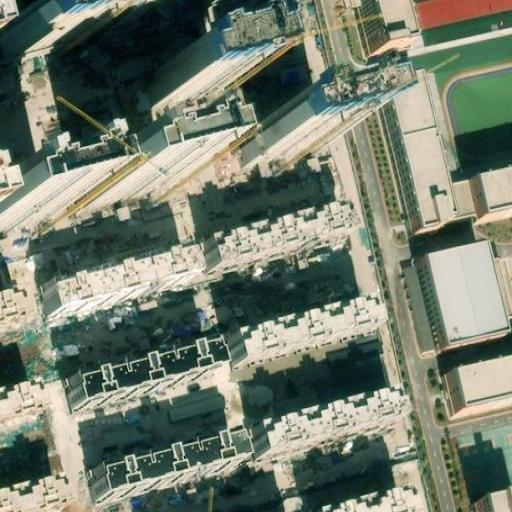building: (386, 74, 481, 231), (204, 205, 351, 279), (43, 258, 198, 328), (268, 384, 420, 455), (238, 290, 388, 361), (413, 251, 506, 360), (91, 438, 239, 502), (81, 335, 228, 398), (12, 0, 155, 61), (237, 103, 333, 164), (92, 148, 185, 203), (146, 51, 228, 107), (443, 365, 512, 424), (0, 182, 63, 234), (357, 0, 408, 49), (0, 383, 47, 428), (473, 169, 512, 216), (0, 301, 27, 341), (474, 488, 511, 512), (343, 499, 393, 512)
